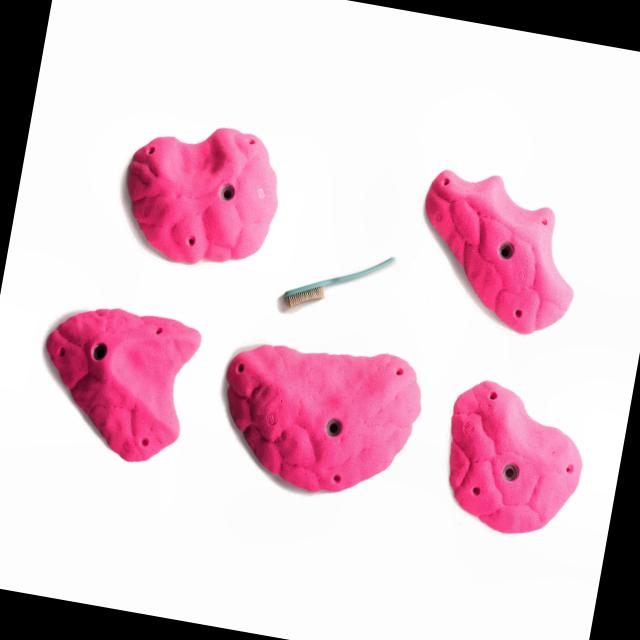Hold: (215, 324, 424, 507), (402, 156, 590, 342), (21, 292, 212, 474), (430, 372, 604, 556), (110, 110, 294, 280)
